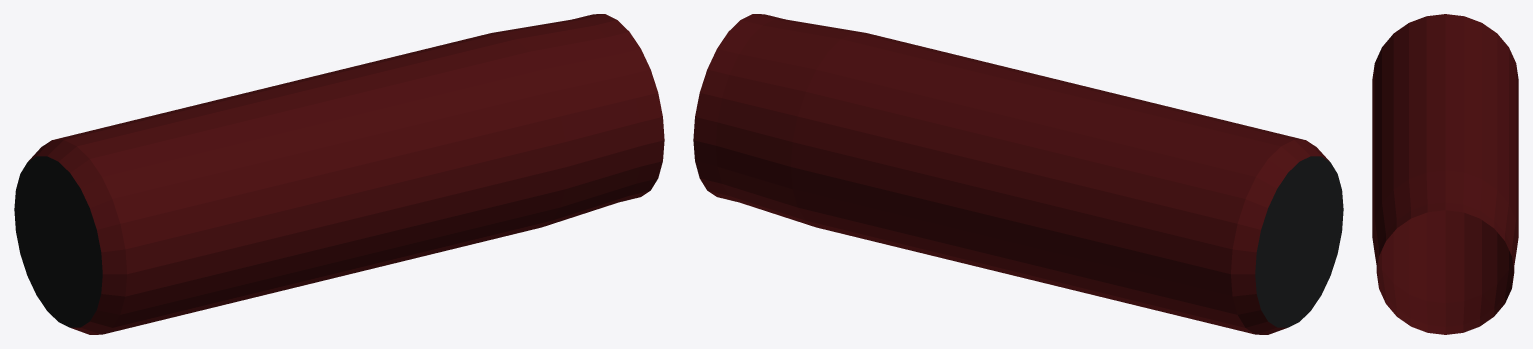
The model's file is riotgun_spent_hull_1995.obj.
The picture shows the model from 3 angles, left to right: view 1: azimuth 30°, elevation 25°; view 2: azimuth 150°, elevation 25°; view 3: azimuth 270°, elevation 25°; orthographic projection. The views are drawn at different scales.
Visible parts, largest first — view 1: casing_shell, primer_base; view 2: casing_shell, primer_base; view 3: casing_shell.
Boxes of the visible parts, x1=… form: casing_shell: x1=28, y1=14, x2=664, y2=334; primer_base: x1=14, y1=156, x2=102, y2=327; casing_shell: x1=693, y1=14, x2=1329, y2=334; primer_base: x1=1255, y1=156, x2=1343, y2=327; casing_shell: x1=1372, y1=14, x2=1518, y2=334.
Bounding box in the file's own units: 6.1 × 1.9 × 1.9.
